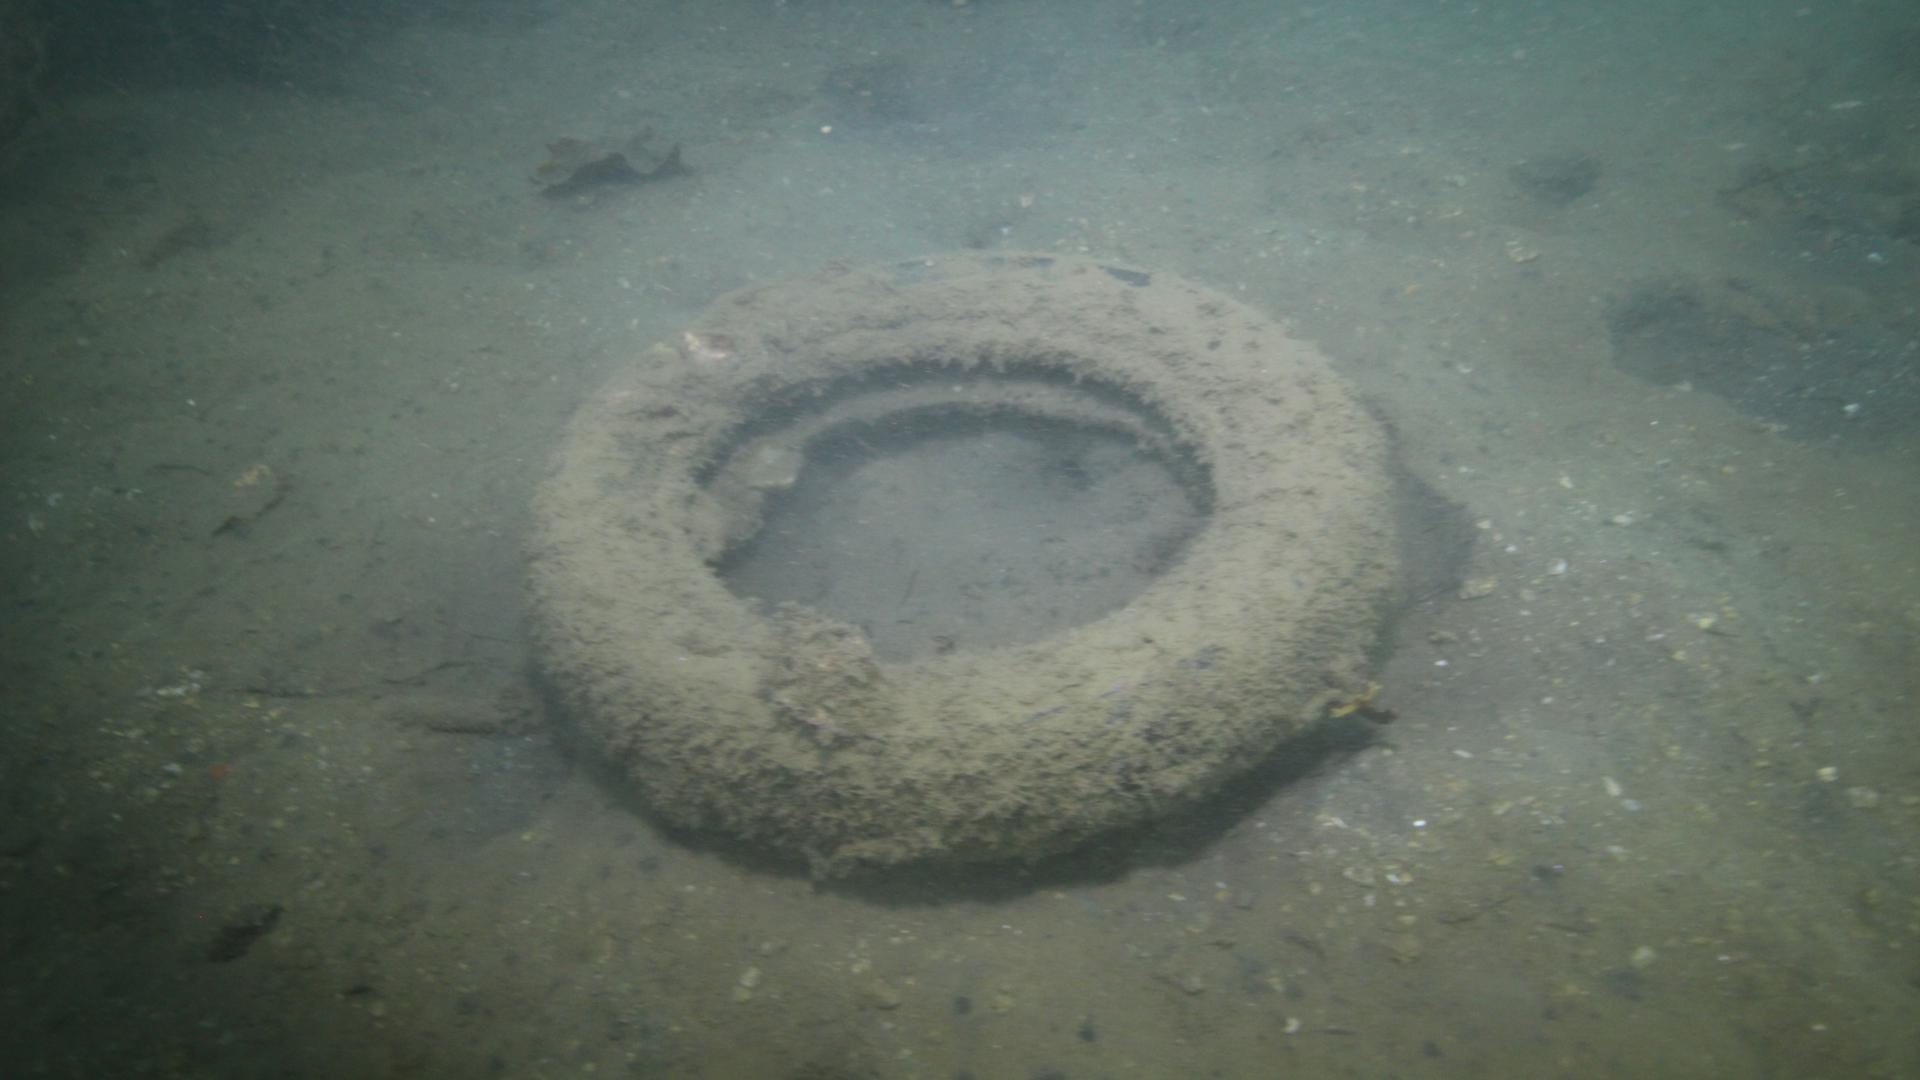tire: (522, 247, 1399, 872)
